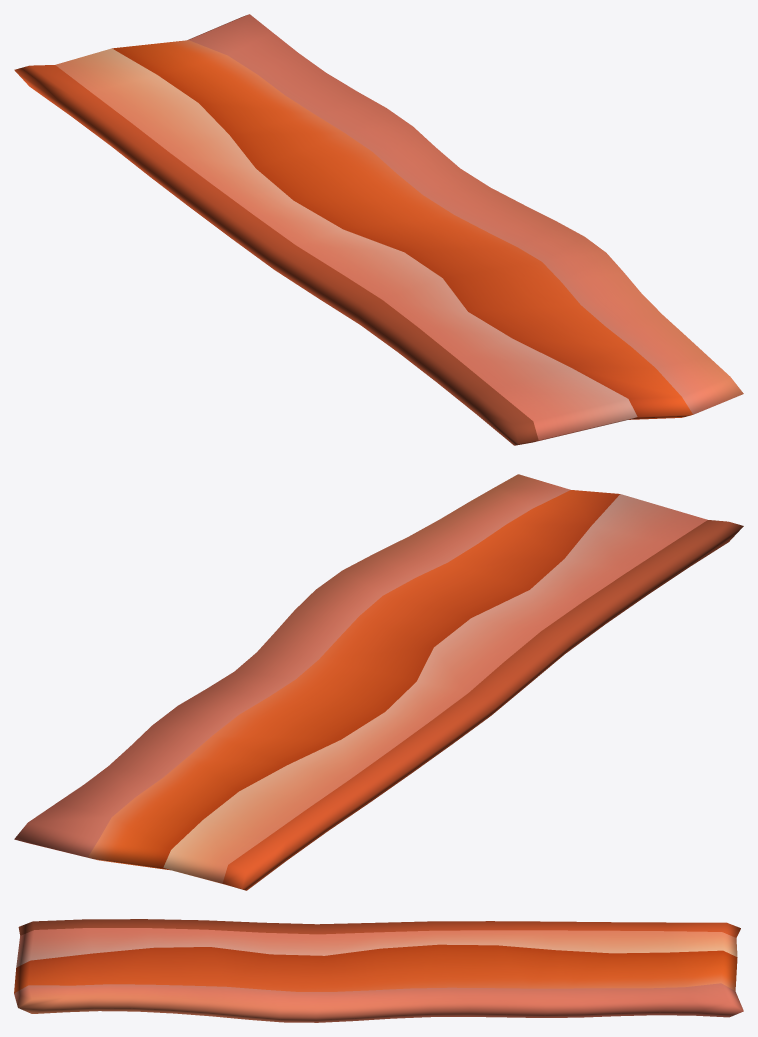
The model's file is bacon_001.fbx.
The picture shows the model from 3 angles, top to bottom: view 1: azimuth 30°, elevation 25°; view 2: azimuth 150°, elevation 25°; view 3: azimuth 270°, elevation 25°; orthographic projection. The views are drawn at different scales.
Visible parts, largest first — view 1: bacon_001; view 2: bacon_001; view 3: bacon_001.
Part boxes in pixels (<box>): bacon_001: <box>14,14,743,445</box>; bacon_001: <box>14,474,743,890</box>; bacon_001: <box>14,919,743,1022</box>.
Size of the model in its own units: 5.06 by 17.56 by 0.6652.
